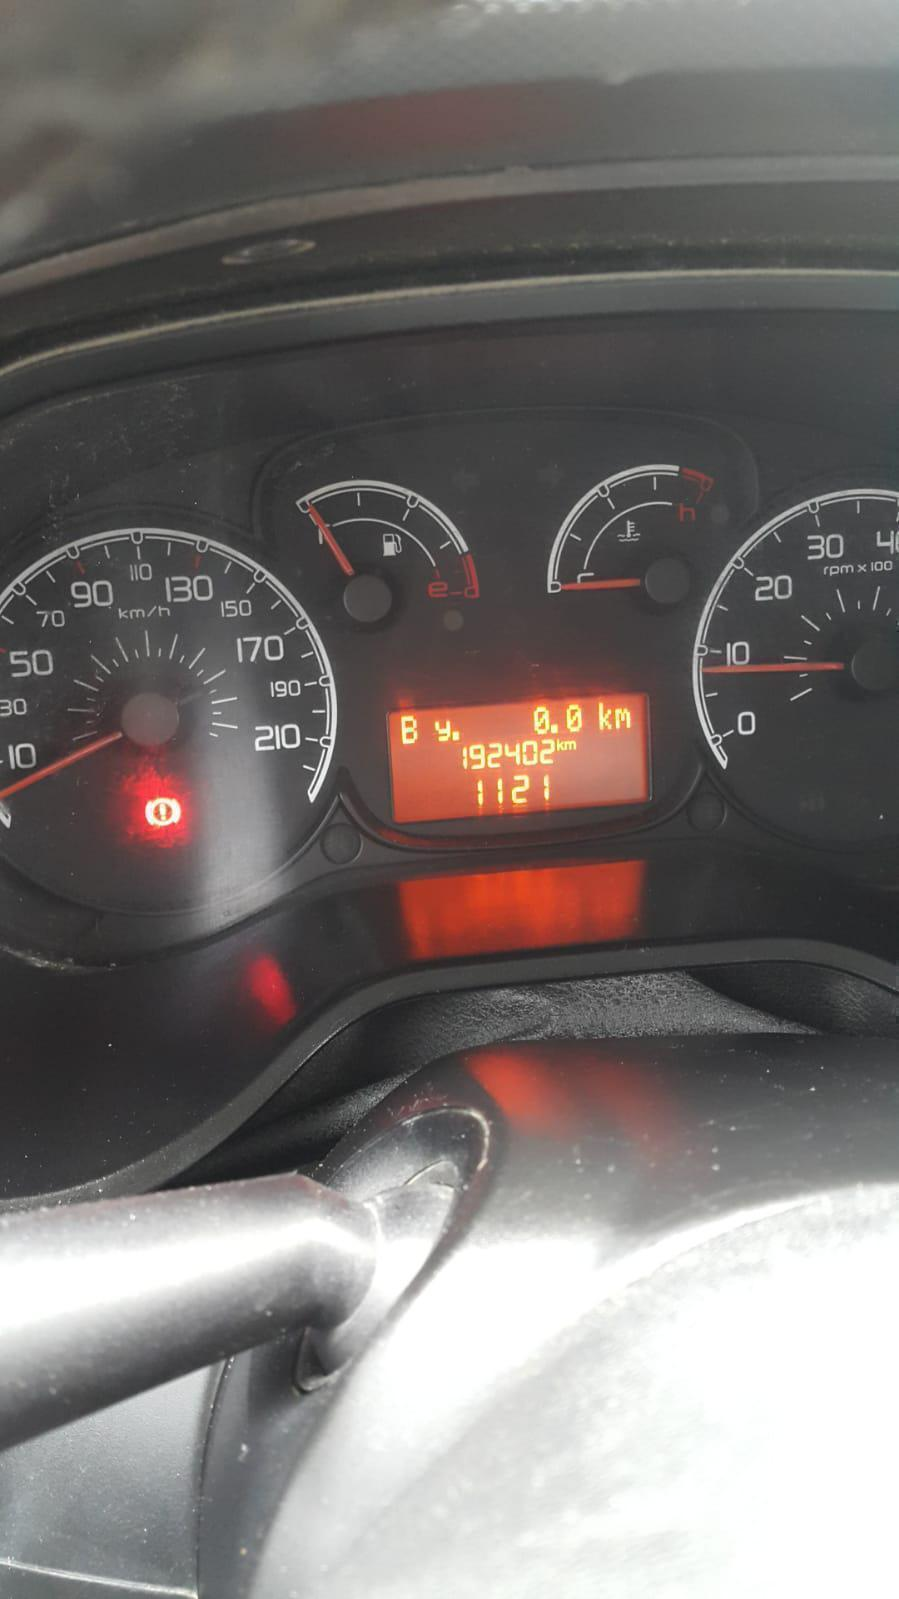,: (450, 727, 460, 745), (550, 723, 558, 737)
0: (530, 703, 548, 737), (563, 703, 582, 733), (521, 739, 536, 765)
1: (539, 770, 553, 803), (471, 776, 484, 808), (492, 774, 504, 807), (456, 745, 467, 771)
2: (509, 773, 530, 806), (486, 742, 504, 770), (538, 739, 553, 765)
4: (505, 742, 521, 765)
9: (469, 742, 484, 772)
X: (397, 711, 419, 747), (596, 700, 613, 733), (432, 716, 450, 743), (614, 706, 632, 731), (562, 739, 577, 753), (555, 737, 563, 753)
odometer: (380, 686, 658, 827)
